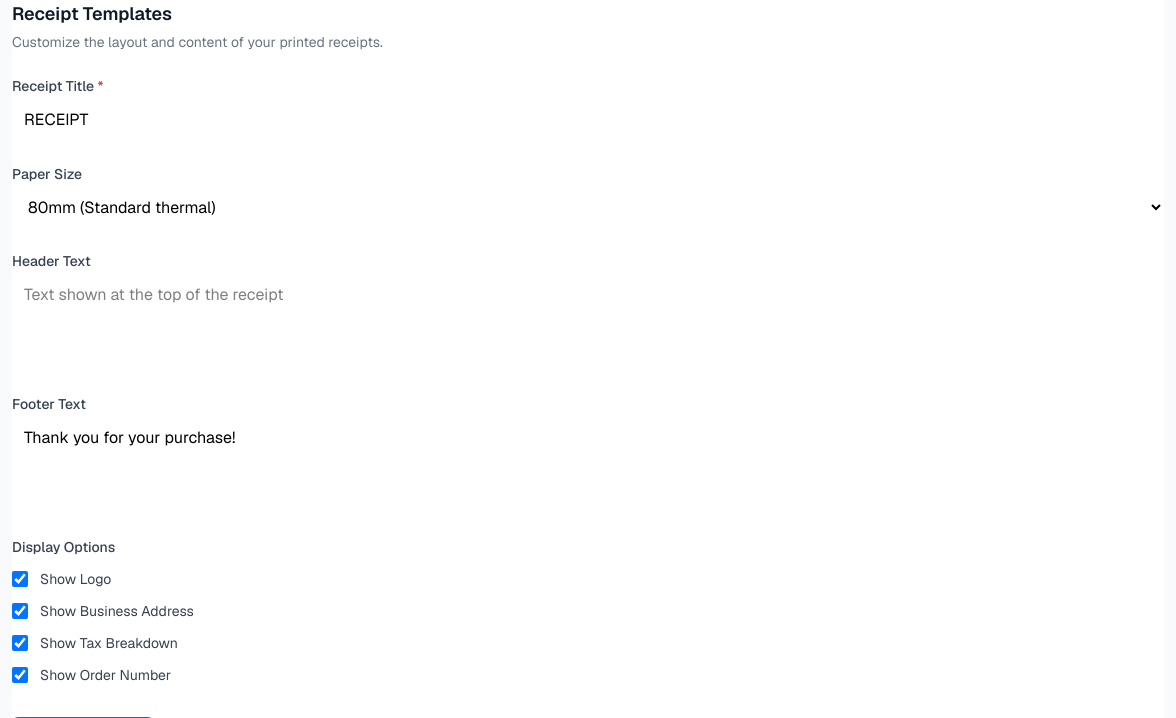
Test: ReceiptTemplateSettings › Preview updates when form values change › updates preview when receipt title changes
The image size is (1176, 718).
Step 1. Replace the text in the field labelled "Receipt Title *" with "TAX INVOICE" → (588, 120), box 12,100 -> 1164,140
(page scrolled)
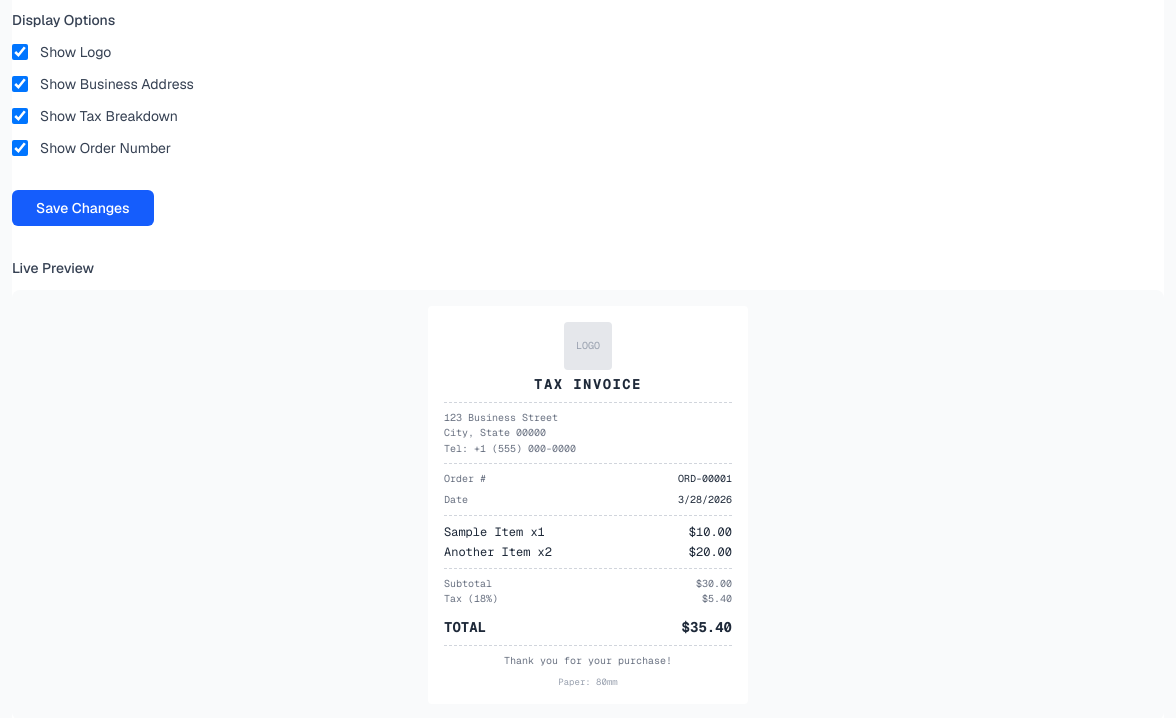
Result: the text "TAX INVOICE" is shown at 534,375 -> 642,393
